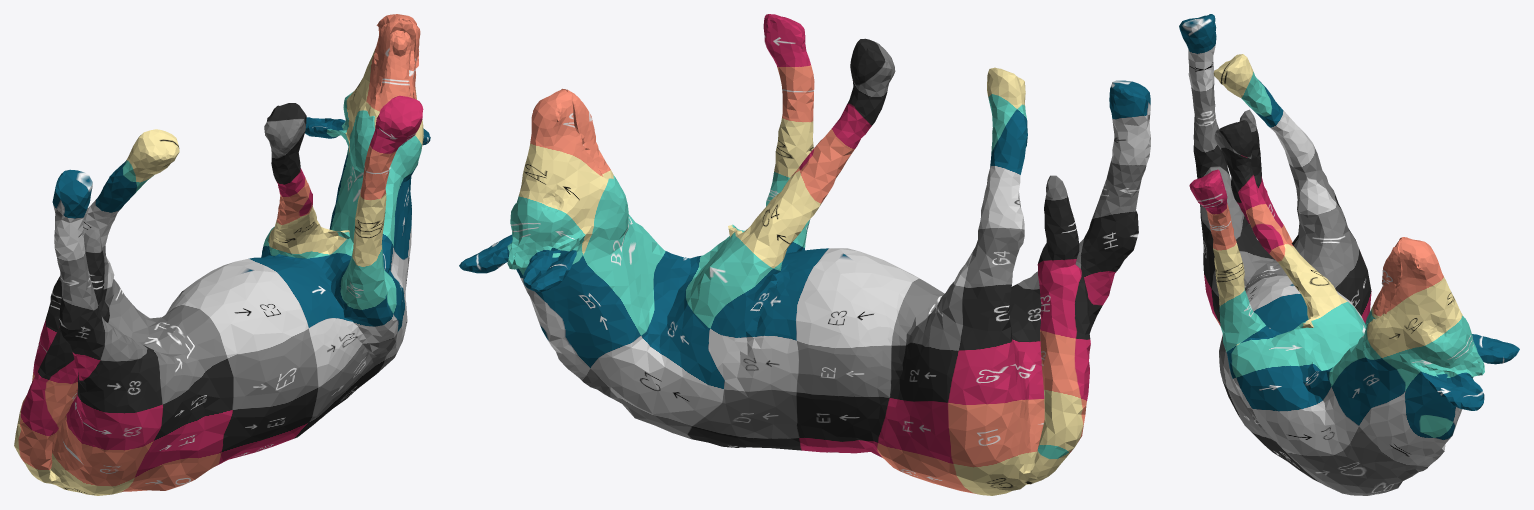
Rendered from horse_04-horse_05.obj.
3 views of the same model, side by side, from view 1: azimuth 30°, elevation 25°; view 2: azimuth 150°, elevation 25°; view 3: azimuth 270°, elevation 25° (orthographic). The views are drawn at different scales.
Parts seen in each view (by area): view 1: horse_04-horse_05_export; view 2: horse_04-horse_05_export; view 3: horse_04-horse_05_export.
Boxes of the visible parts, x1,y1,x2,y2 form: horse_04-horse_05_export: [14, 14, 430, 495]; horse_04-horse_05_export: [459, 14, 1150, 495]; horse_04-horse_05_export: [1179, 14, 1519, 495].
Size of the model in its own units: 0.8319 by 0.5827 by 0.5187.
